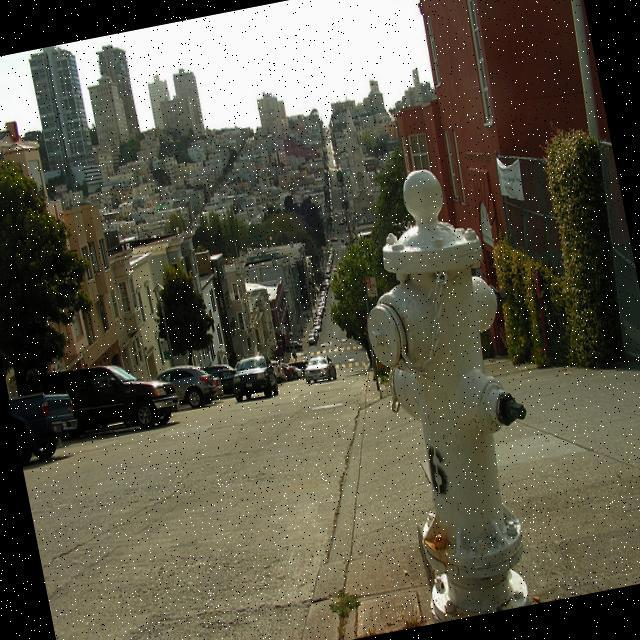fire_hydrant: (338, 154, 564, 619)
